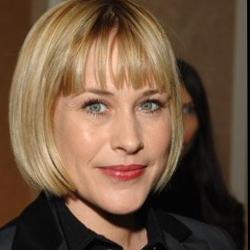face: (3, 3, 189, 225)
